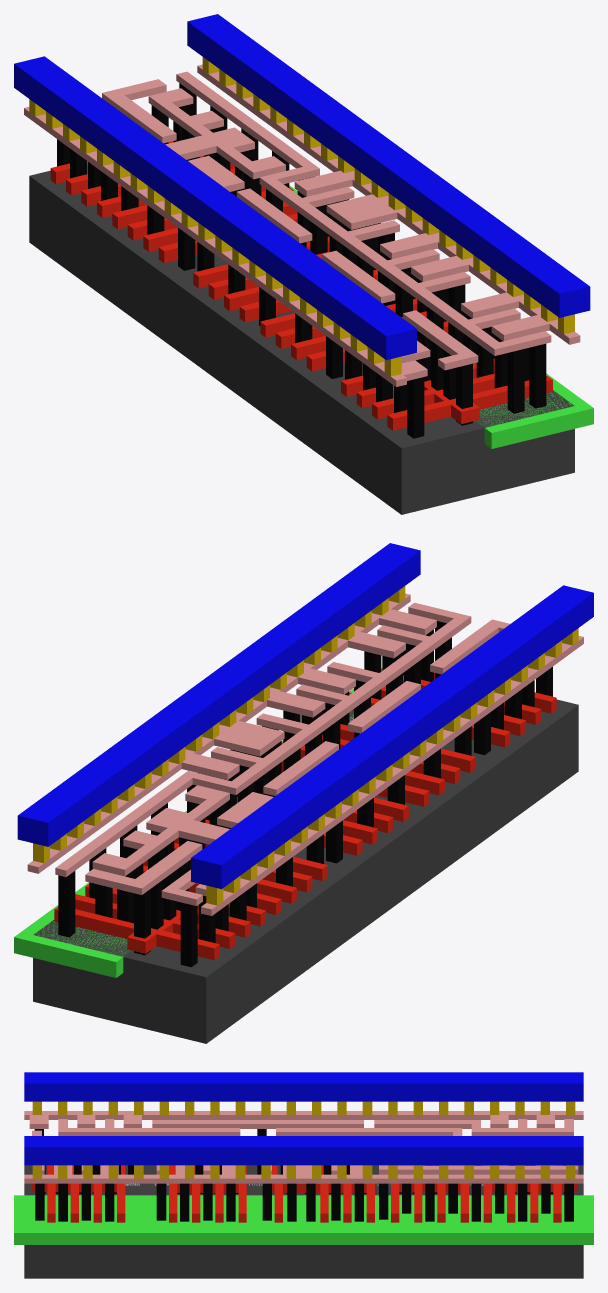
Rendered from sky130_fd_sc_hd__a32oi_4.obj.
The picture shows the model from 3 angles, top to bottom: view 1: azimuth 30°, elevation 25°; view 2: azimuth 150°, elevation 25°; view 3: azimuth 270°, elevation 25°; orthographic projection. The views are drawn at different scales.
Visible parts, largest first — view 1: subs, metal1, li, licon, poly, mcon, nwell; view 2: subs, metal1, li, licon, poly, mcon, nwell; view 3: metal1, subs, nwell, li, licon, poly, mcon.
Boxes of the visible parts, left/top/right/bottom form: subs: left=29, top=170, right=574, bottom=514; metal1: left=14, top=14, right=590, bottom=360; li: left=24, top=64, right=580, bottom=386; licon: left=57, top=83, right=546, bottom=438; poly: left=50, top=141, right=552, bottom=430; mcon: left=29, top=57, right=574, bottom=376; nwell: left=289, top=185, right=593, bottom=448; subs: left=33, top=699, right=578, bottom=1043; metal1: left=17, top=543, right=593, bottom=889; li: left=27, top=593, right=583, bottom=915; licon: left=58, top=621, right=552, bottom=967; poly: left=54, top=670, right=556, bottom=960; mcon: left=33, top=586, right=578, bottom=905; nwell: left=14, top=668, right=382, bottom=977; metal1: left=24, top=1072, right=583, bottom=1165; subs: left=24, top=1165, right=583, bottom=1278; nwell: left=14, top=1195, right=593, bottom=1244; li: left=24, top=1111, right=583, bottom=1183; licon: left=34, top=1129, right=573, bottom=1221; poly: left=32, top=1165, right=577, bottom=1222; mcon: left=32, top=1101, right=575, bottom=1178.
Size of the model in its own units: 3.2 by 2.74 by 10.5.
